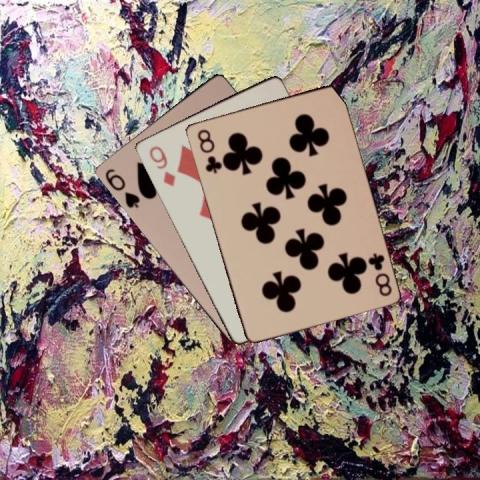6s: (102, 165, 142, 210)
8c: (194, 126, 221, 175), (364, 250, 392, 297)
9d: (145, 142, 177, 188)
